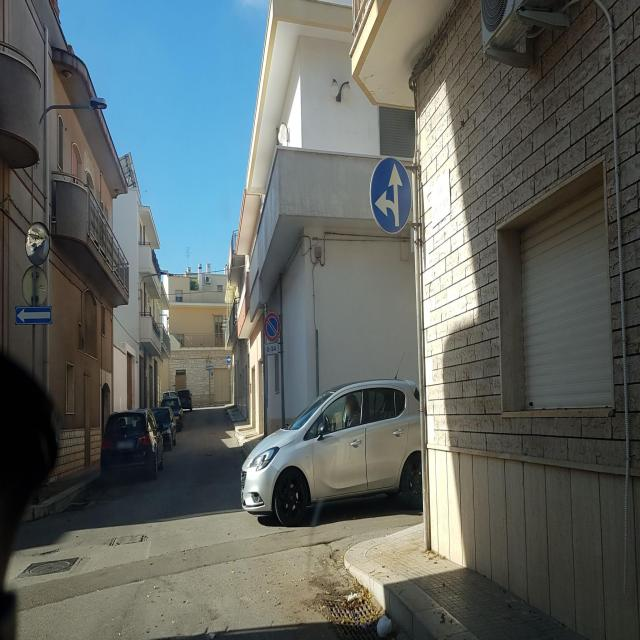forb_stopping: (264, 313, 281, 342)
